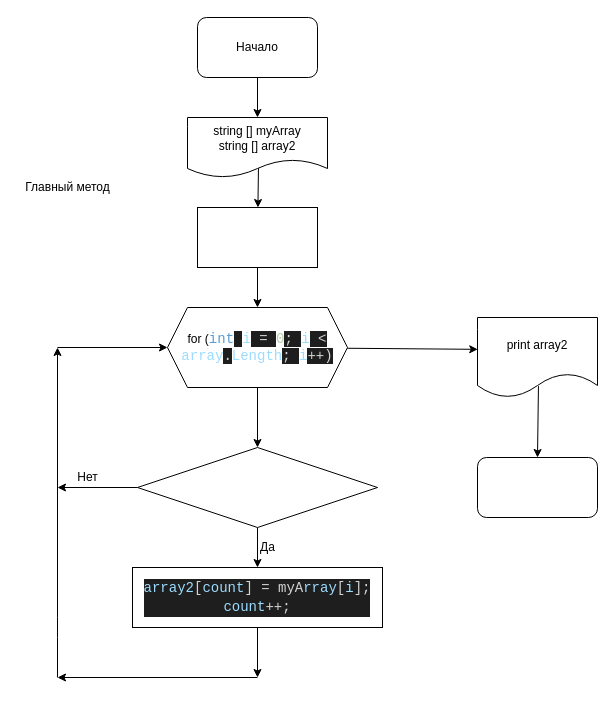
Image size: 615x703. Some labels were removed from this diagram. The shapes that lost their labels are listed below. From the top down, each one's box as (x1, y1, x2, y2) in pixels, then its label:
(196, 206, 318, 268): int count = 0
(136, 446, 378, 528): if (myA rray [ i ] . Length <= 3 )
(476, 456, 598, 518): Конец
